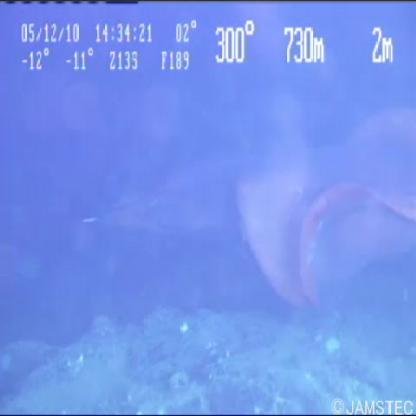Bio: (78, 102, 416, 313)
